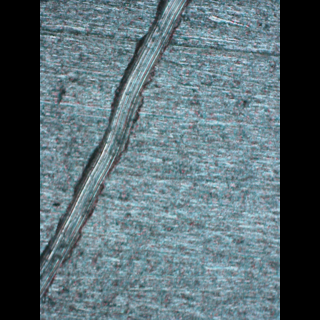d: (40, 0, 197, 303)
